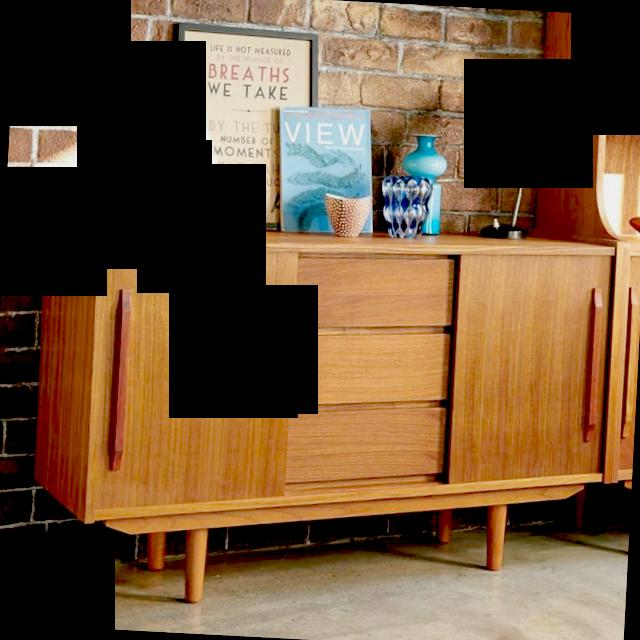vintage shelf: (20, 208, 621, 600), (517, 11, 640, 556)
